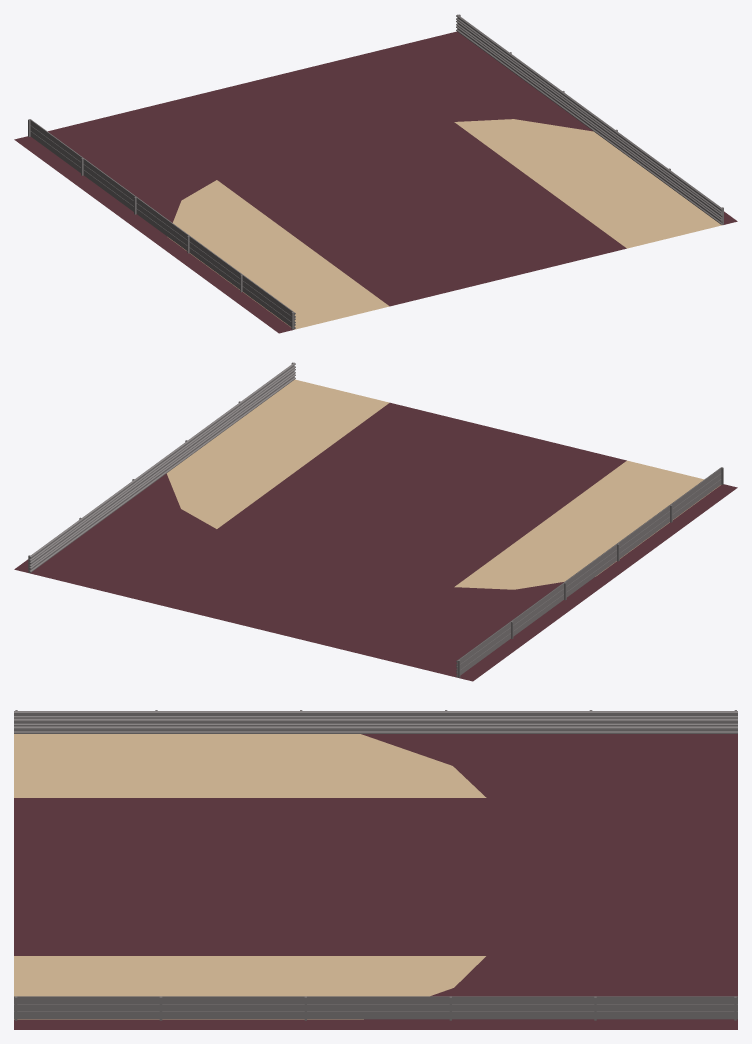
File: tile-race-track-straight-curbs-sand-cut-nb.fbx
3 renders of one model, top to bottom at view 1: azimuth 30°, elevation 25°; view 2: azimuth 150°, elevation 25°; view 3: azimuth 270°, elevation 25°, orthographic. The views are drawn at different scales.
Parts seen in each view (by area): view 1: tile-race-track-straight-curbs-sand-cut-nb; view 2: tile-race-track-straight-curbs-sand-cut-nb; view 3: tile-race-track-straight-curbs-sand-cut-nb.
Part boxes in pixels (bbox=[...]): tile-race-track-straight-curbs-sand-cut-nb: bbox=[14, 14, 737, 333]; tile-race-track-straight-curbs-sand-cut-nb: bbox=[14, 362, 737, 681]; tile-race-track-straight-curbs-sand-cut-nb: bbox=[14, 710, 737, 1029].
Bounding box in the file's own units: 30 × 1.05 × 30.
